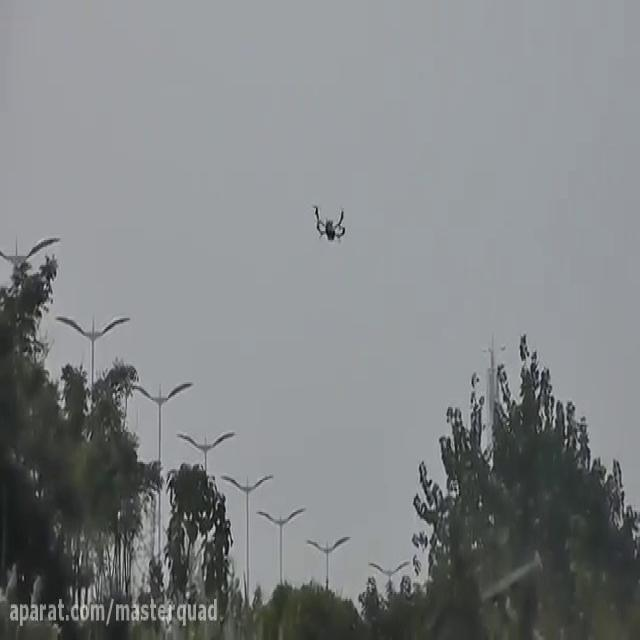drone: (309, 201, 346, 242)
